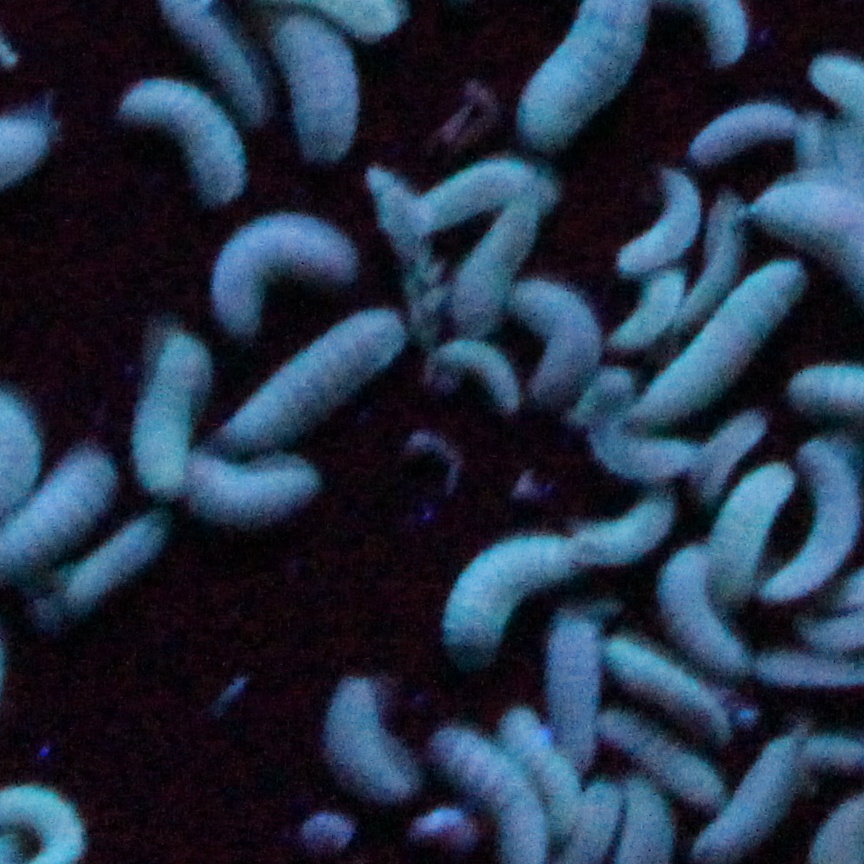larve: (221, 314, 408, 455), (637, 263, 812, 411), (114, 76, 246, 207), (202, 216, 356, 323), (433, 727, 550, 857), (442, 538, 566, 653), (270, 15, 362, 160), (326, 682, 424, 804), (602, 711, 724, 807), (517, 282, 606, 411), (611, 633, 725, 733), (457, 196, 540, 332), (706, 732, 802, 848), (659, 550, 739, 678), (507, 700, 583, 833), (787, 443, 852, 598), (181, 455, 314, 528), (128, 347, 198, 485), (72, 522, 176, 612), (721, 467, 792, 596), (426, 338, 531, 420), (548, 613, 604, 766), (619, 171, 699, 271), (676, 195, 742, 309), (389, 164, 547, 210), (689, 92, 793, 161), (690, 413, 770, 502), (581, 487, 674, 559), (618, 269, 678, 353)
